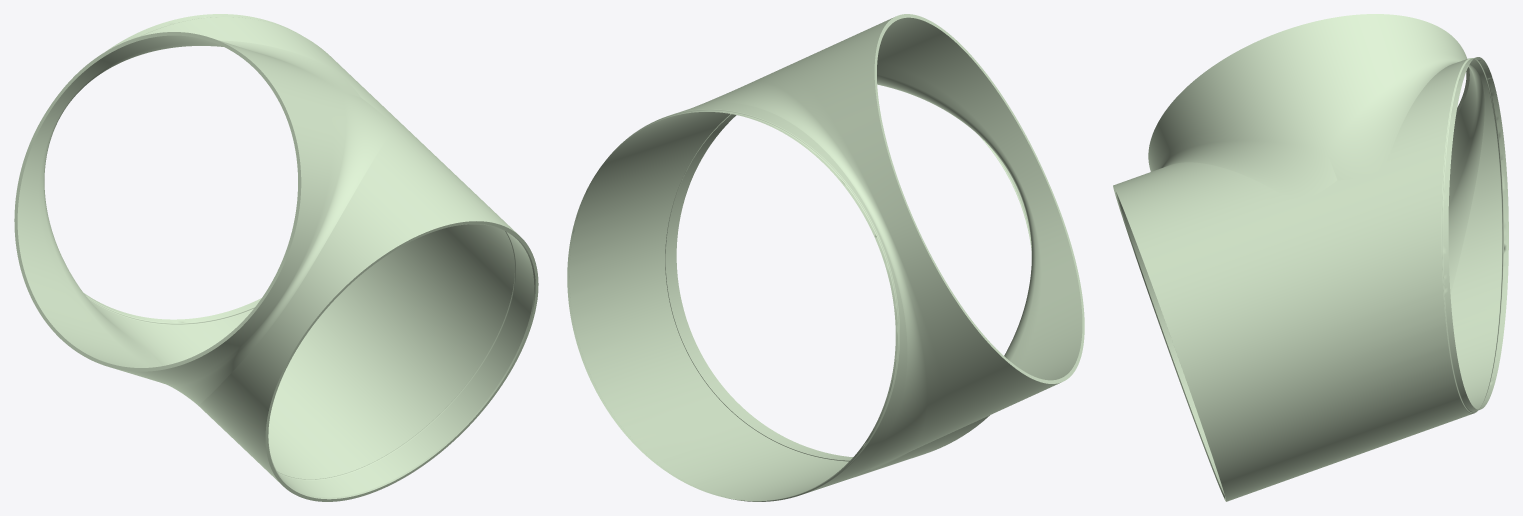
File: Joint_5.fbx
The picture shows the model from 3 angles, left to right: view 1: azimuth 30°, elevation 25°; view 2: azimuth 150°, elevation 25°; view 3: azimuth 270°, elevation 25°; orthographic projection. The views are drawn at different scales.
Visible parts, largest first — view 1: Joint_5.002; view 2: Joint_5.002; view 3: Joint_5.002.
Boxes of the visible parts, bbox=[...] form: Joint_5.002: bbox=[14, 14, 538, 501]; Joint_5.002: bbox=[567, 14, 1084, 501]; Joint_5.002: bbox=[1113, 14, 1508, 501].
Size of the model in its own units: 12.27 by 12.51 by 10.6.
